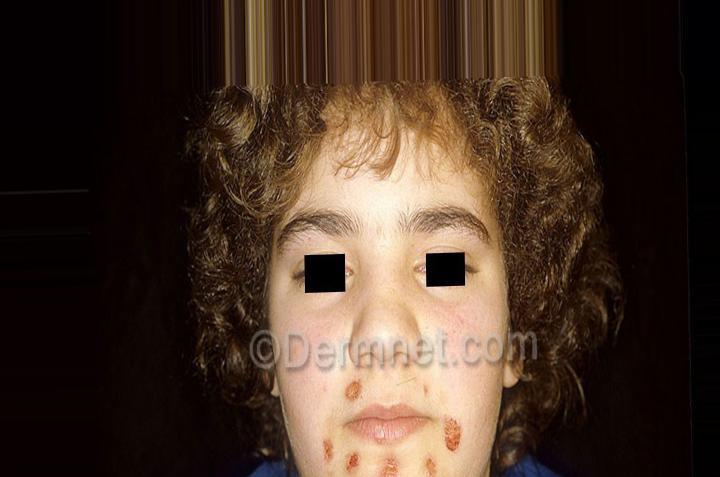Acne: (409, 435, 447, 477), (377, 449, 411, 477), (341, 377, 378, 402), (441, 421, 469, 452), (312, 431, 337, 457), (337, 446, 364, 466)
